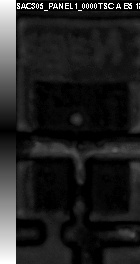led: (33, 82, 129, 213)
